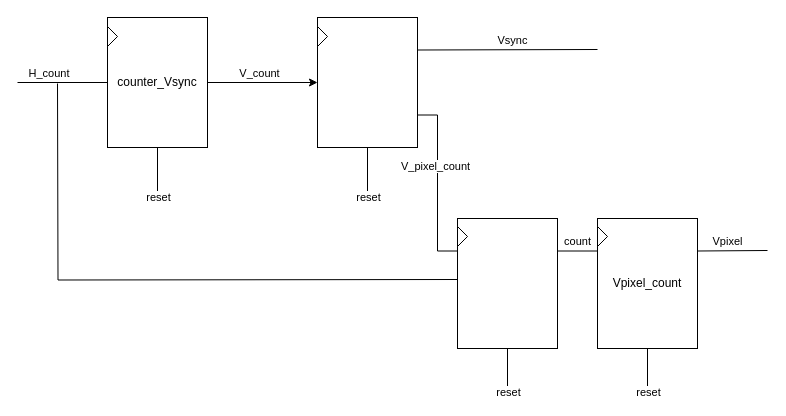
The diagram is 786 pixels wide and 416 high, and some of its shapes have lost their labels. Each missing label, with the centre of its shape:
"FSM_Vsync" goes at (x=367, y=82).
"line_period _counter" goes at (x=507, y=283).
